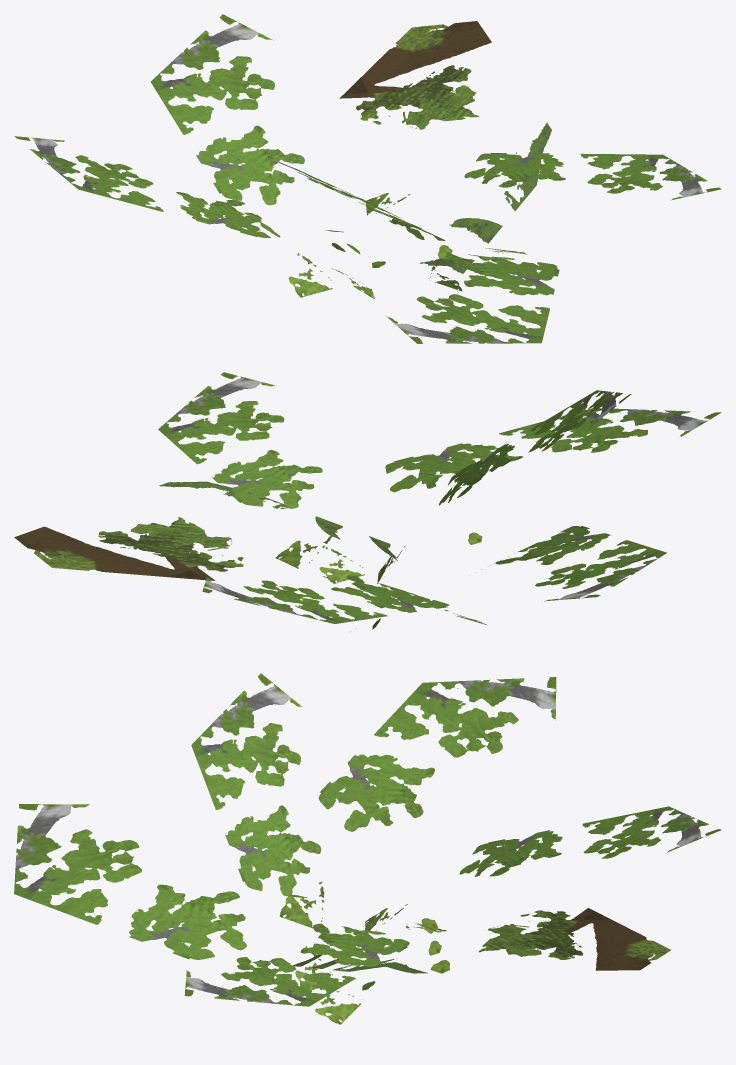
File: Plante_04.fbx
The picture shows the model from 3 angles, top to bottom: view 1: azimuth 30°, elevation 25°; view 2: azimuth 150°, elevation 25°; view 3: azimuth 270°, elevation 25°; orthographic projection. The views are drawn at different scales.
Parts seen in each view (by area): view 1: Plante_04; view 2: Plante_04; view 3: Plante_04.
Part boxes in pixels (x1,y1,x2,y2): Plante_04: [14, 14, 721, 343]; Plante_04: [14, 372, 721, 629]; Plante_04: [14, 673, 721, 1024].
Size of the model in its own units: 1.51 by 0.5625 by 1.69.
